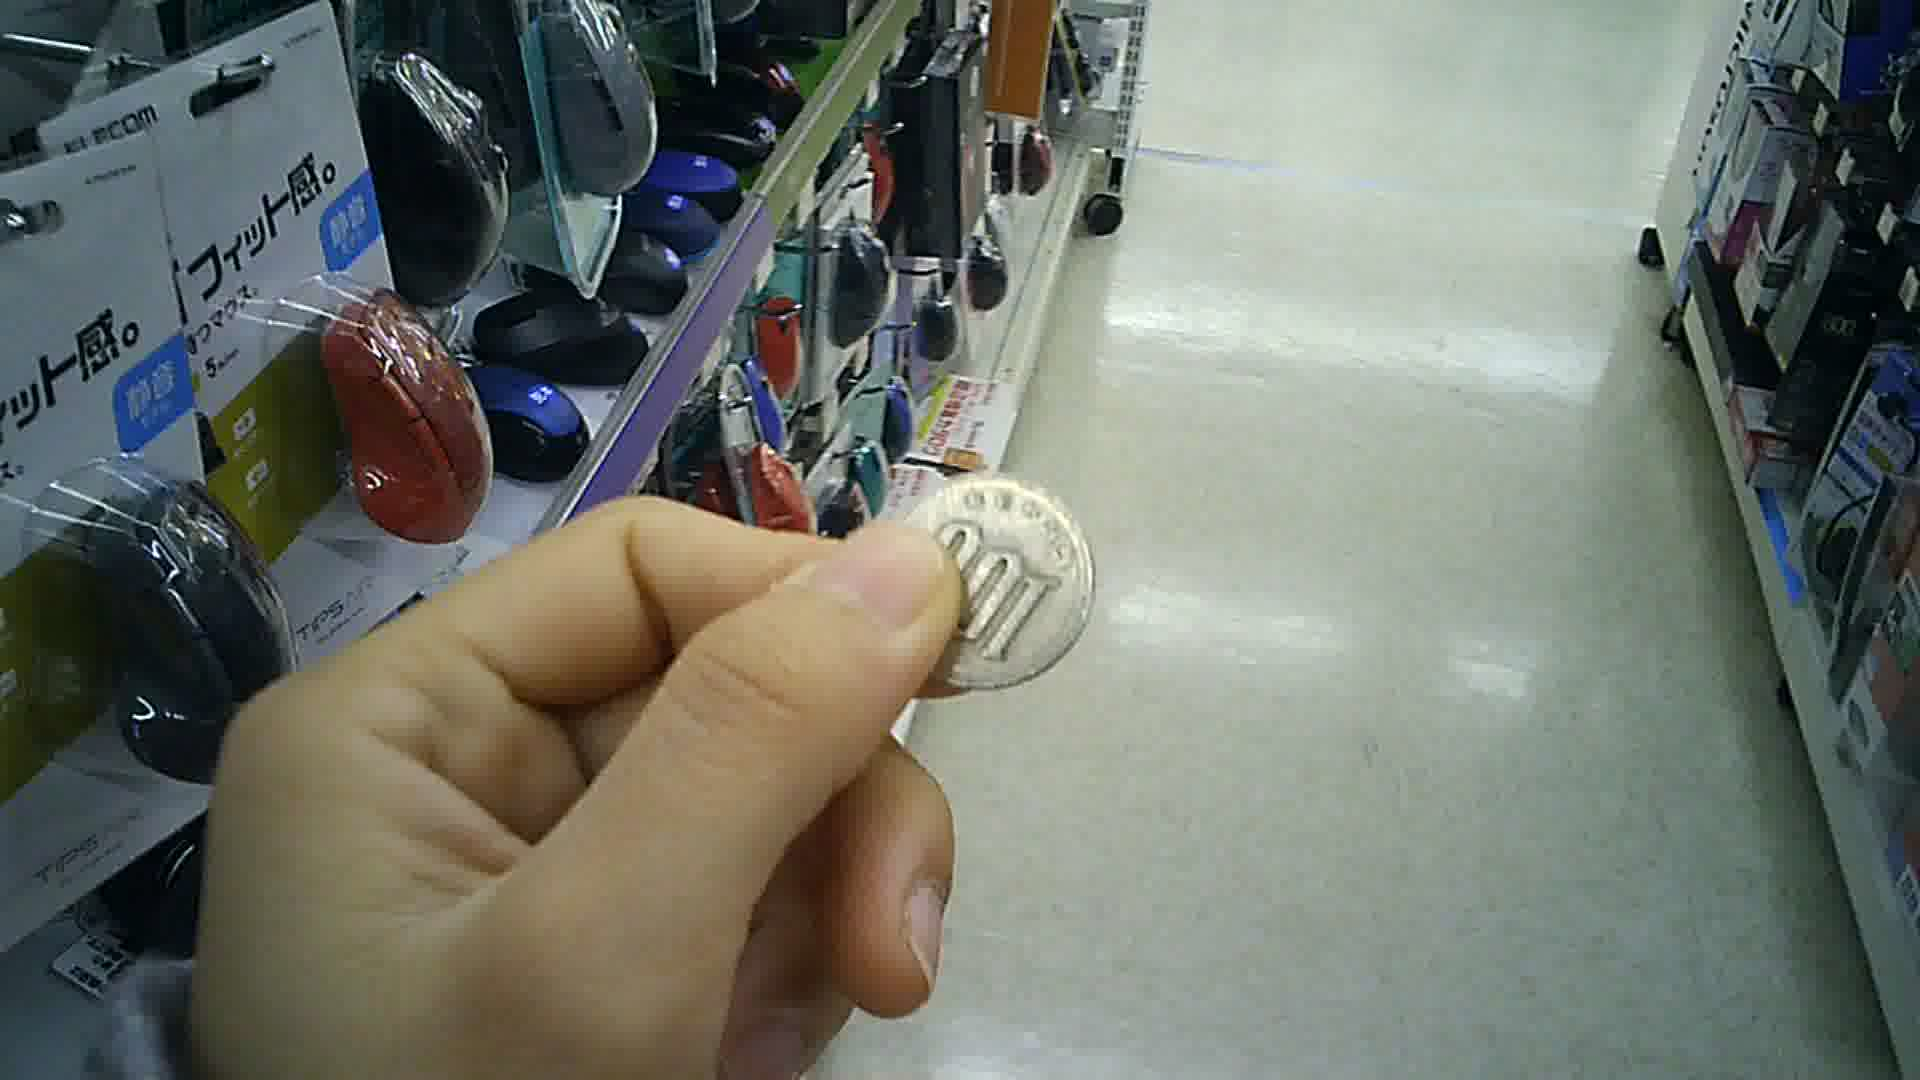100 Yen: (891, 465, 1098, 694)
